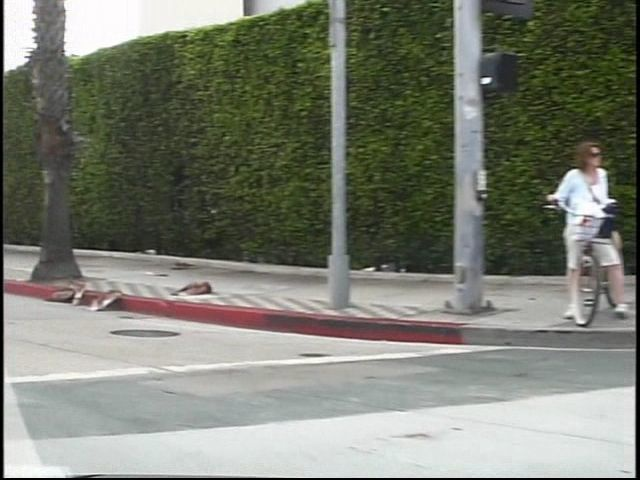person: (537, 147, 605, 322)
